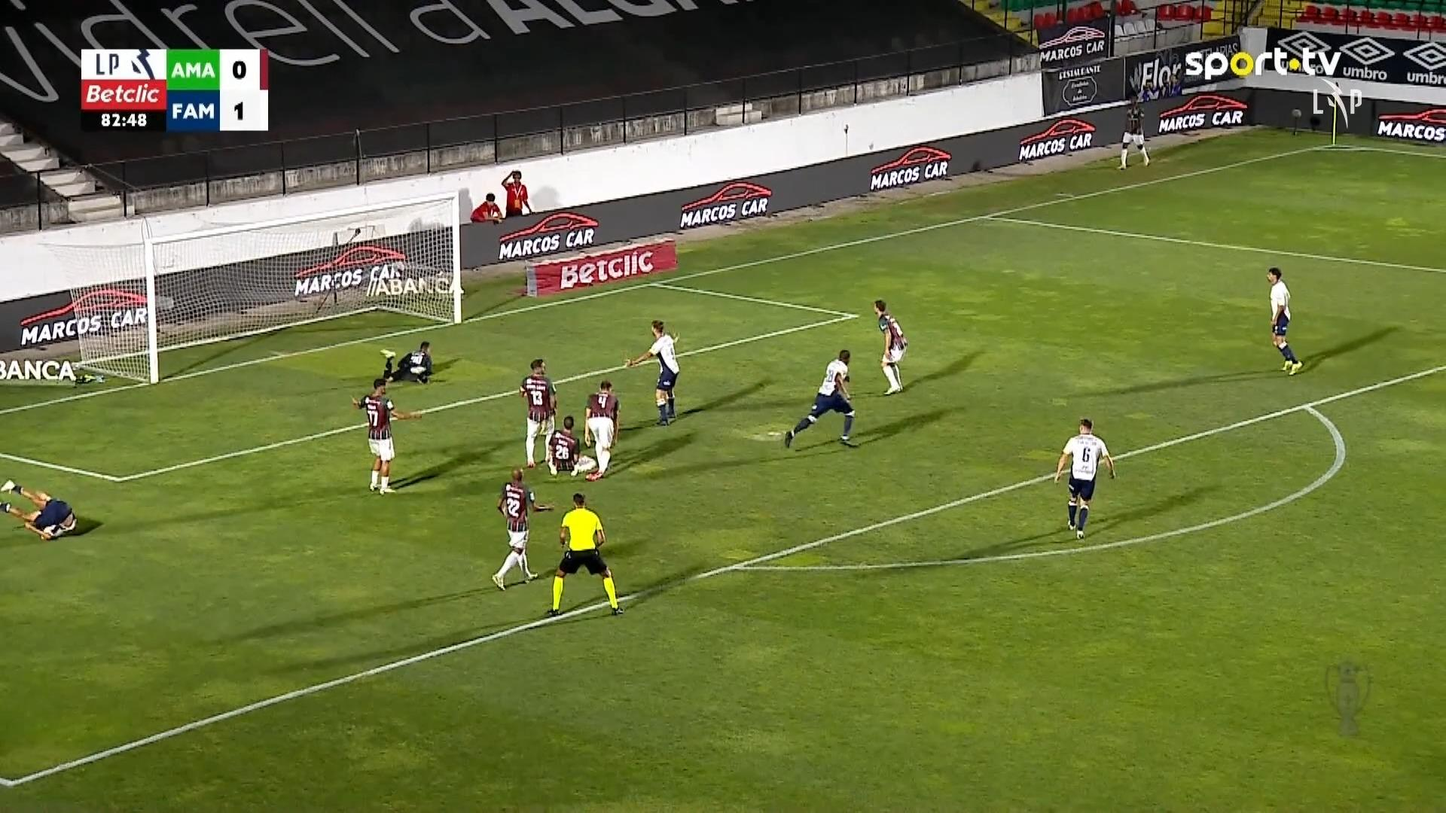ball: (380, 348, 395, 358)
goalkeeper: (381, 340, 433, 385)
player: (350, 377, 422, 495), (490, 467, 554, 591), (1052, 417, 1115, 539), (782, 349, 858, 448), (624, 318, 680, 426), (0, 477, 77, 540), (518, 358, 557, 468), (1265, 266, 1303, 375), (582, 379, 620, 480), (873, 298, 908, 396), (545, 414, 598, 478)
referee: (543, 492, 624, 617)
